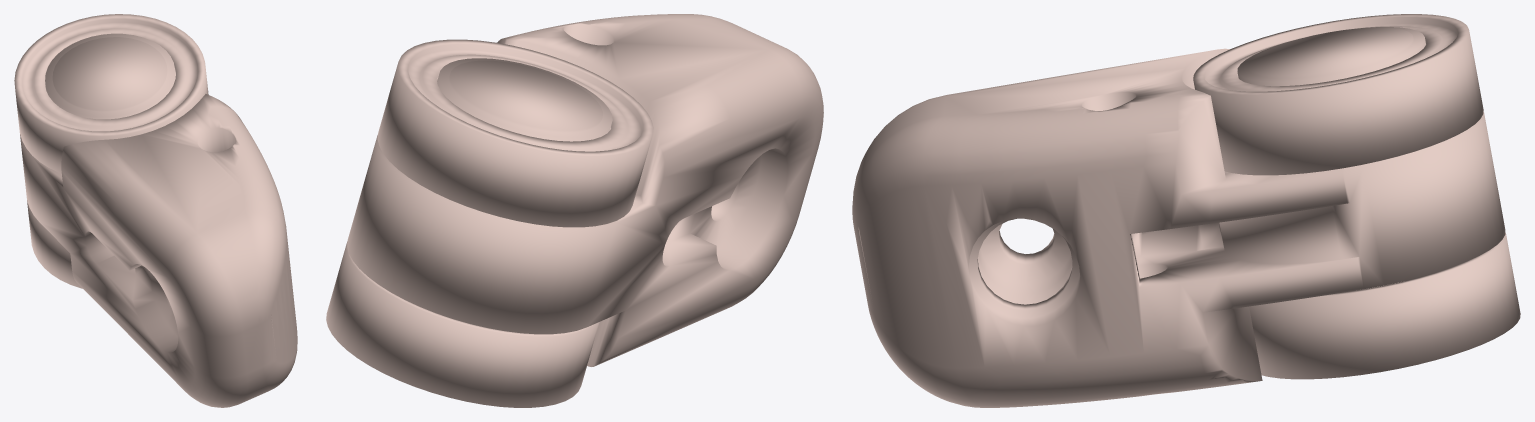
File: pinky_tip_1.obj
The picture shows the model from 3 angles, left to right: view 1: azimuth 30°, elevation 25°; view 2: azimuth 150°, elevation 25°; view 3: azimuth 270°, elevation 25°; orthographic projection. The views are drawn at different scales.
Bounding box in the file's own units: 11.87 × 14.74 × 23.84.
